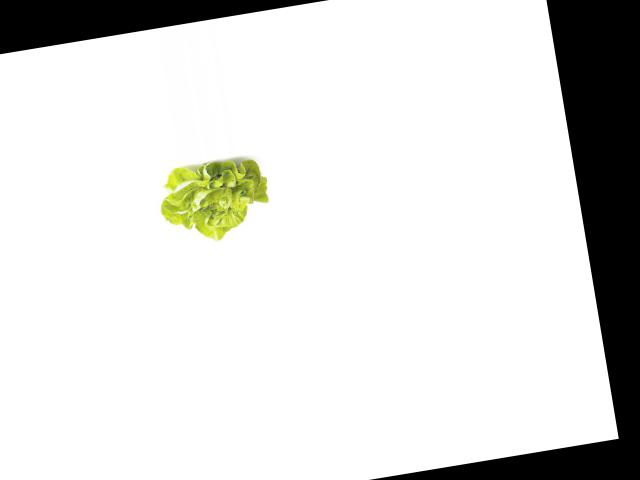lettuce: (150, 152, 276, 248)
